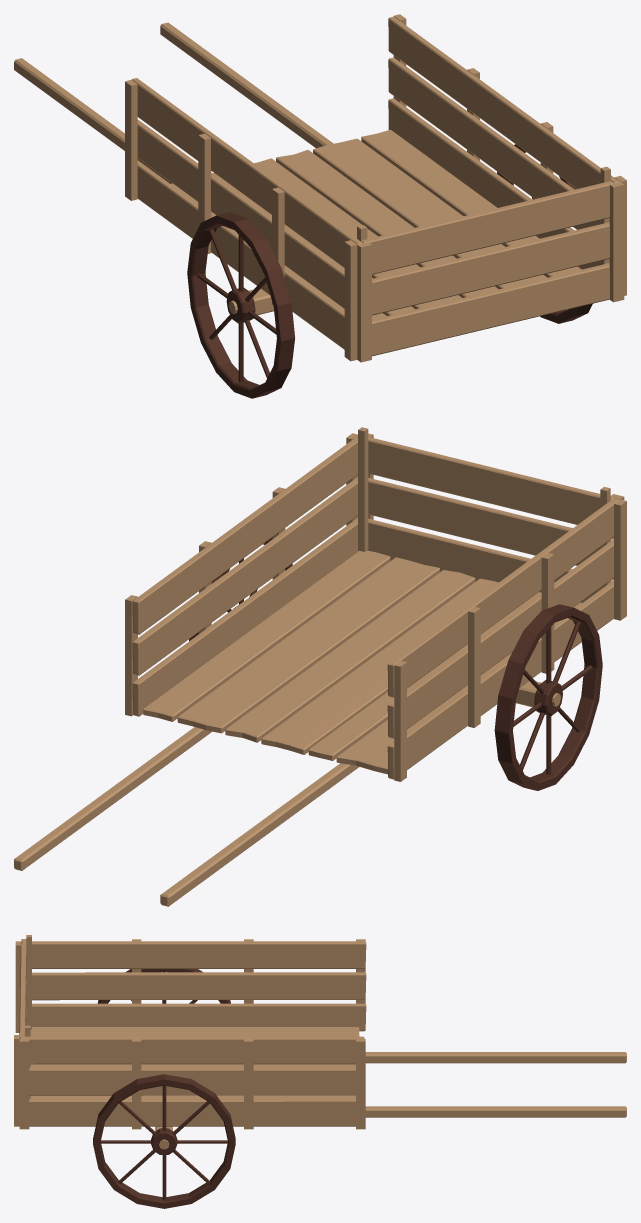
Rendered from cart-a.glb.
The picture shows the model from 3 angles, top to bottom: view 1: azimuth 30°, elevation 25°; view 2: azimuth 150°, elevation 25°; view 3: azimuth 270°, elevation 25°; orthographic projection. The views are drawn at different scales.
Visible parts, largest first — view 1: Cart A (×2); view 2: Cart A (×2); view 3: Cart A (×2).
Boxes of the visible parts, x1=… form: Cart A (×2): x1=14, y1=14, x2=626, y2=398; Cart A (×2): x1=14, y1=427, x2=626, y2=906; Cart A (×2): x1=14, y1=935, x2=626, y2=1208.
Bounding box in the file's own units: 1.71 × 1.11 × 3.66.
